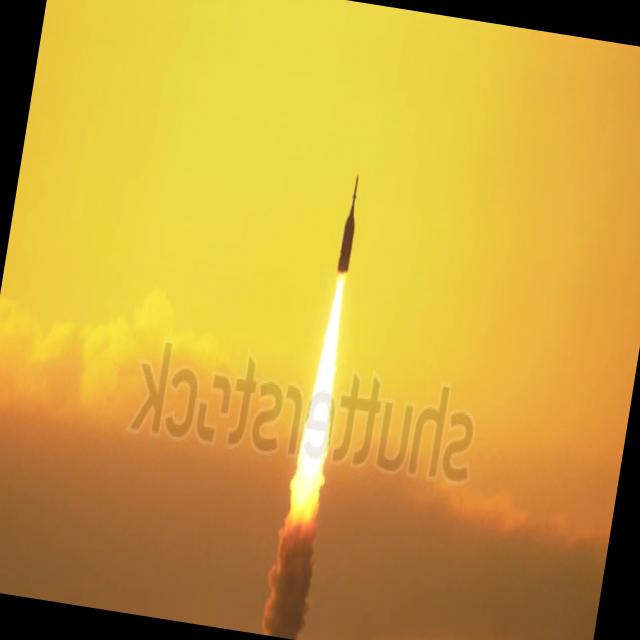rocket: (302, 160, 369, 442)
